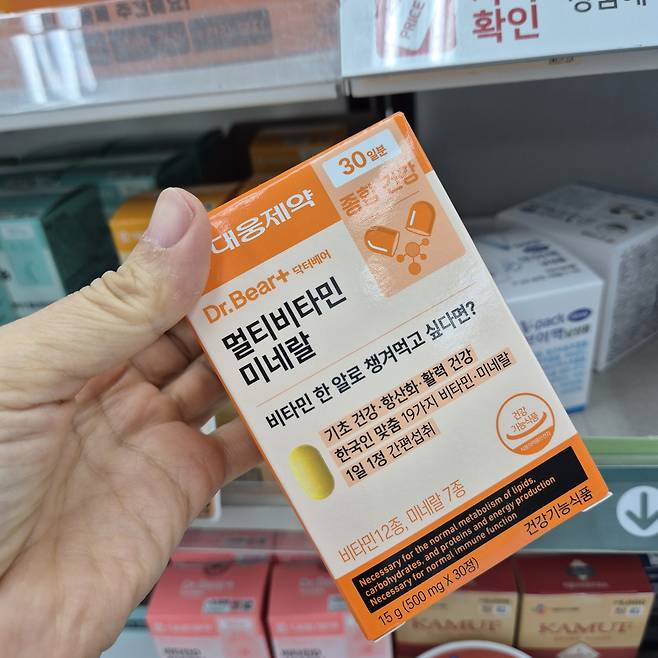supplement_label: (150, 106, 613, 644)
